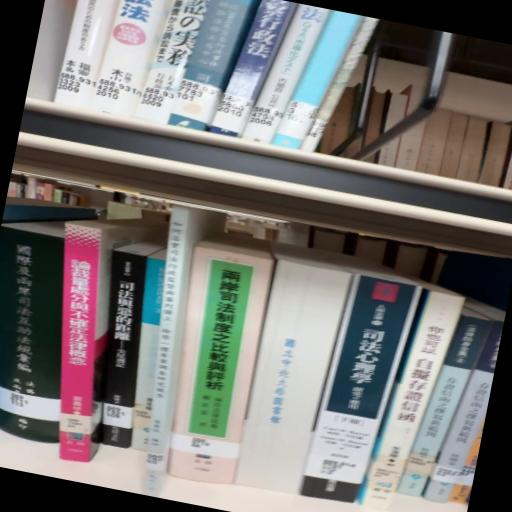backward: (236, 245, 354, 495)
book: (28, 200, 156, 467), (296, 271, 421, 512), (127, 208, 227, 471), (361, 283, 471, 512), (1, 202, 102, 445), (160, 239, 276, 447), (75, 239, 167, 457), (423, 309, 503, 508)
